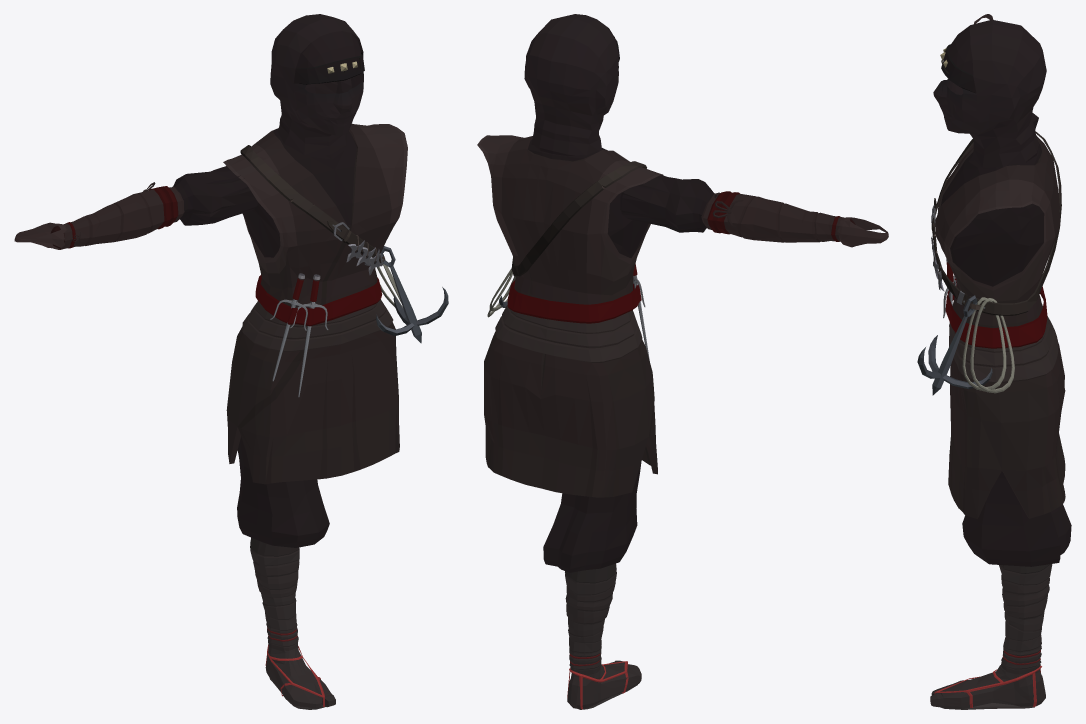
File: ninjaFemale.glb
The picture shows the model from 3 angles, left to right: view 1: azimuth 30°, elevation 25°; view 2: azimuth 150°, elevation 25°; view 3: azimuth 270°, elevation 25°; orthographic projection. The views are drawn at different scales.
Parts seen in each view (by area): view 1: ninjaBody, ninjaHoodDetailed, ninjaUpperLeg, ninjaLowerArm, ninjaLowerLeg, ninjaUpperArm, ninjaFoot, ninjaGlove; view 2: ninjaBody, ninjaHoodDetailed, ninjaUpperLeg, ninjaLowerArm, ninjaLowerLeg, ninjaUpperArm, ninjaFoot, ninjaGlove; view 3: ninjaBody, ninjaHoodDetailed, ninjaUpperLeg, ninjaLowerLeg, ninjaFoot.
Boxes of the visible parts, x1,y1,x2,y2 form: ninjaBody: (223,123,448,484); ninjaHoodDetailed: (270,14,364,155); ninjaUpperLeg: (237,436,329,547); ninjaLowerArm: (50,182,184,248); ninjaLowerLeg: (250,537,299,651); ninjaUpperArm: (169,166,258,225); ninjaFoot: (265,645,335,709); ninjaGlove: (14,222,67,249); ninjaBody: (477,135,662,497); ninjaHoodDetailed: (524,14,619,156); ninjaUpperLeg: (543,462,641,572); ninjaLowerArm: (701,191,855,242); ninjaLowerLeg: (565,563,616,674); ninjaUpperArm: (620,174,717,232); ninjaFoot: (567,660,641,709); ninjaGlove: (837,217,888,247); ninjaBody: (917,131,1065,518); ninjaHoodDetailed: (933,19,1046,168); ninjaUpperLeg: (962,471,1071,566); ninjaLowerLeg: (999,564,1052,674); ninjaFoot: (930,665,1045,709).
Size of the model in its own units: 1.19 by 1.88 by 0.3796.
